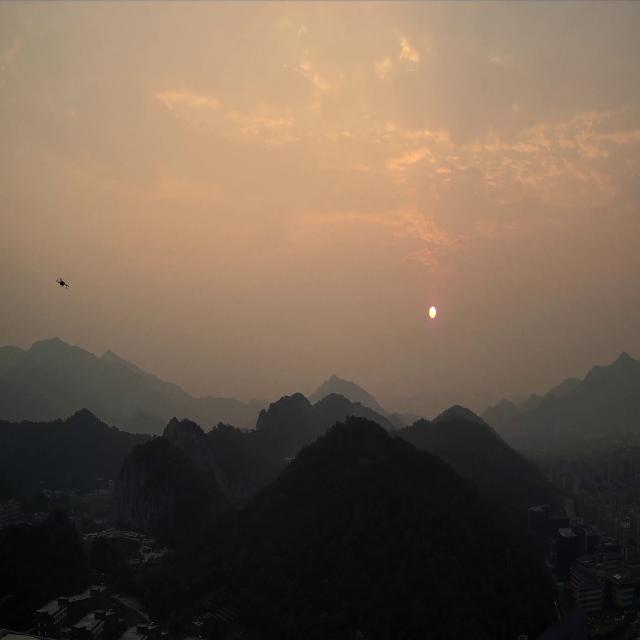UAV: (56, 277, 69, 289)
